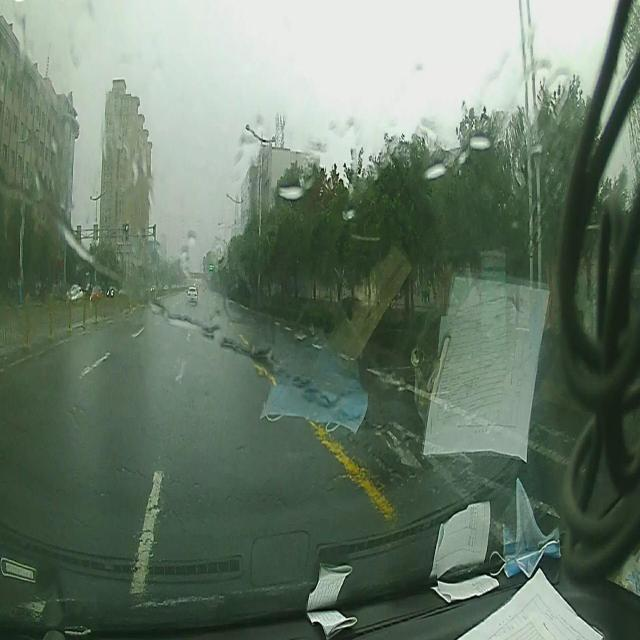car: (66, 280, 82, 302), (89, 284, 102, 300), (187, 284, 197, 304)
